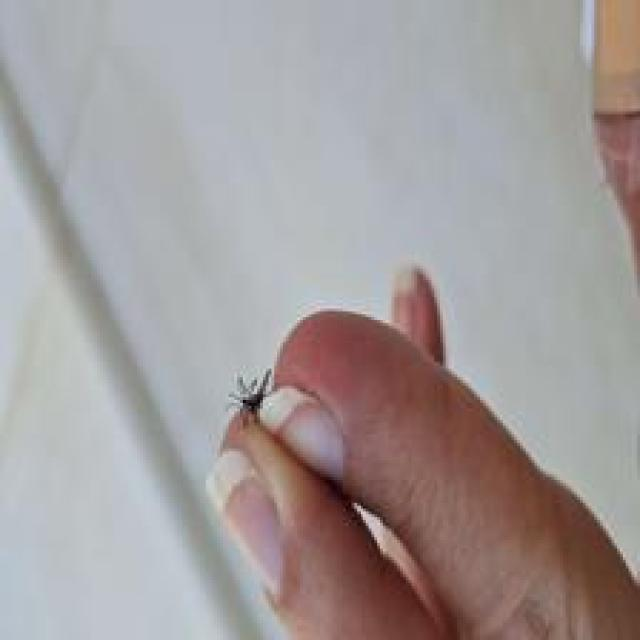Aedes albopictus: (226, 367, 274, 427)
